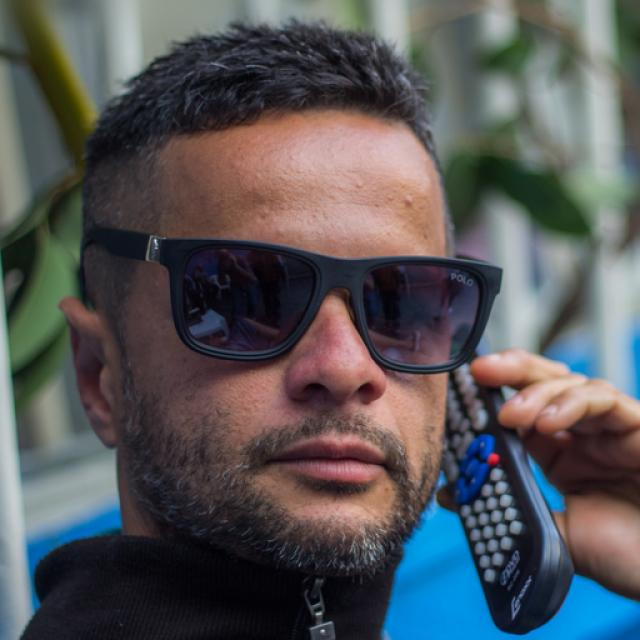Acne: (349, 175, 368, 197), (268, 221, 289, 239), (403, 192, 420, 210), (255, 207, 273, 218), (383, 192, 399, 204)
